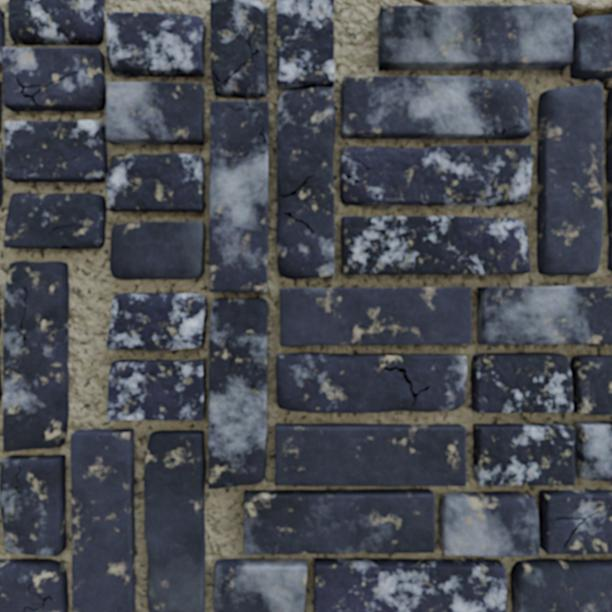brick: (0, 9, 204, 248), (378, 5, 611, 77), (277, 0, 334, 278), (244, 489, 434, 554), (537, 84, 602, 274), (3, 262, 68, 451), (342, 76, 530, 139), (275, 424, 465, 485), (71, 429, 134, 611), (340, 145, 531, 205), (439, 490, 611, 555), (277, 353, 465, 412), (281, 287, 470, 345), (209, 298, 266, 488), (210, 101, 267, 291), (145, 431, 205, 611), (342, 217, 529, 273), (314, 558, 505, 611), (471, 353, 611, 414), (474, 422, 611, 484), (478, 287, 611, 343), (0, 455, 65, 555), (107, 13, 204, 76), (108, 360, 205, 419), (108, 293, 206, 349), (211, 0, 267, 97), (111, 222, 204, 278), (511, 559, 611, 611), (214, 559, 305, 611), (9, 0, 104, 44), (0, 559, 67, 611), (606, 90, 611, 270), (250, 102, 268, 140), (0, 149, 2, 204), (0, 82, 1, 129), (0, 377, 1, 398)
crack: (211, 25, 259, 83), (554, 506, 611, 548), (227, 100, 268, 155), (563, 2, 611, 20), (23, 582, 52, 611), (574, 77, 611, 91), (496, 287, 507, 323), (412, 0, 435, 6), (60, 245, 70, 248), (482, 286, 487, 291)
